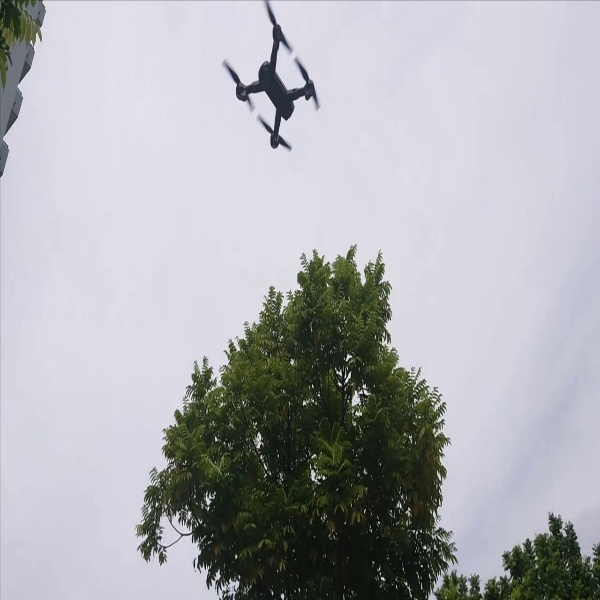drone: (208, 1, 327, 159)
